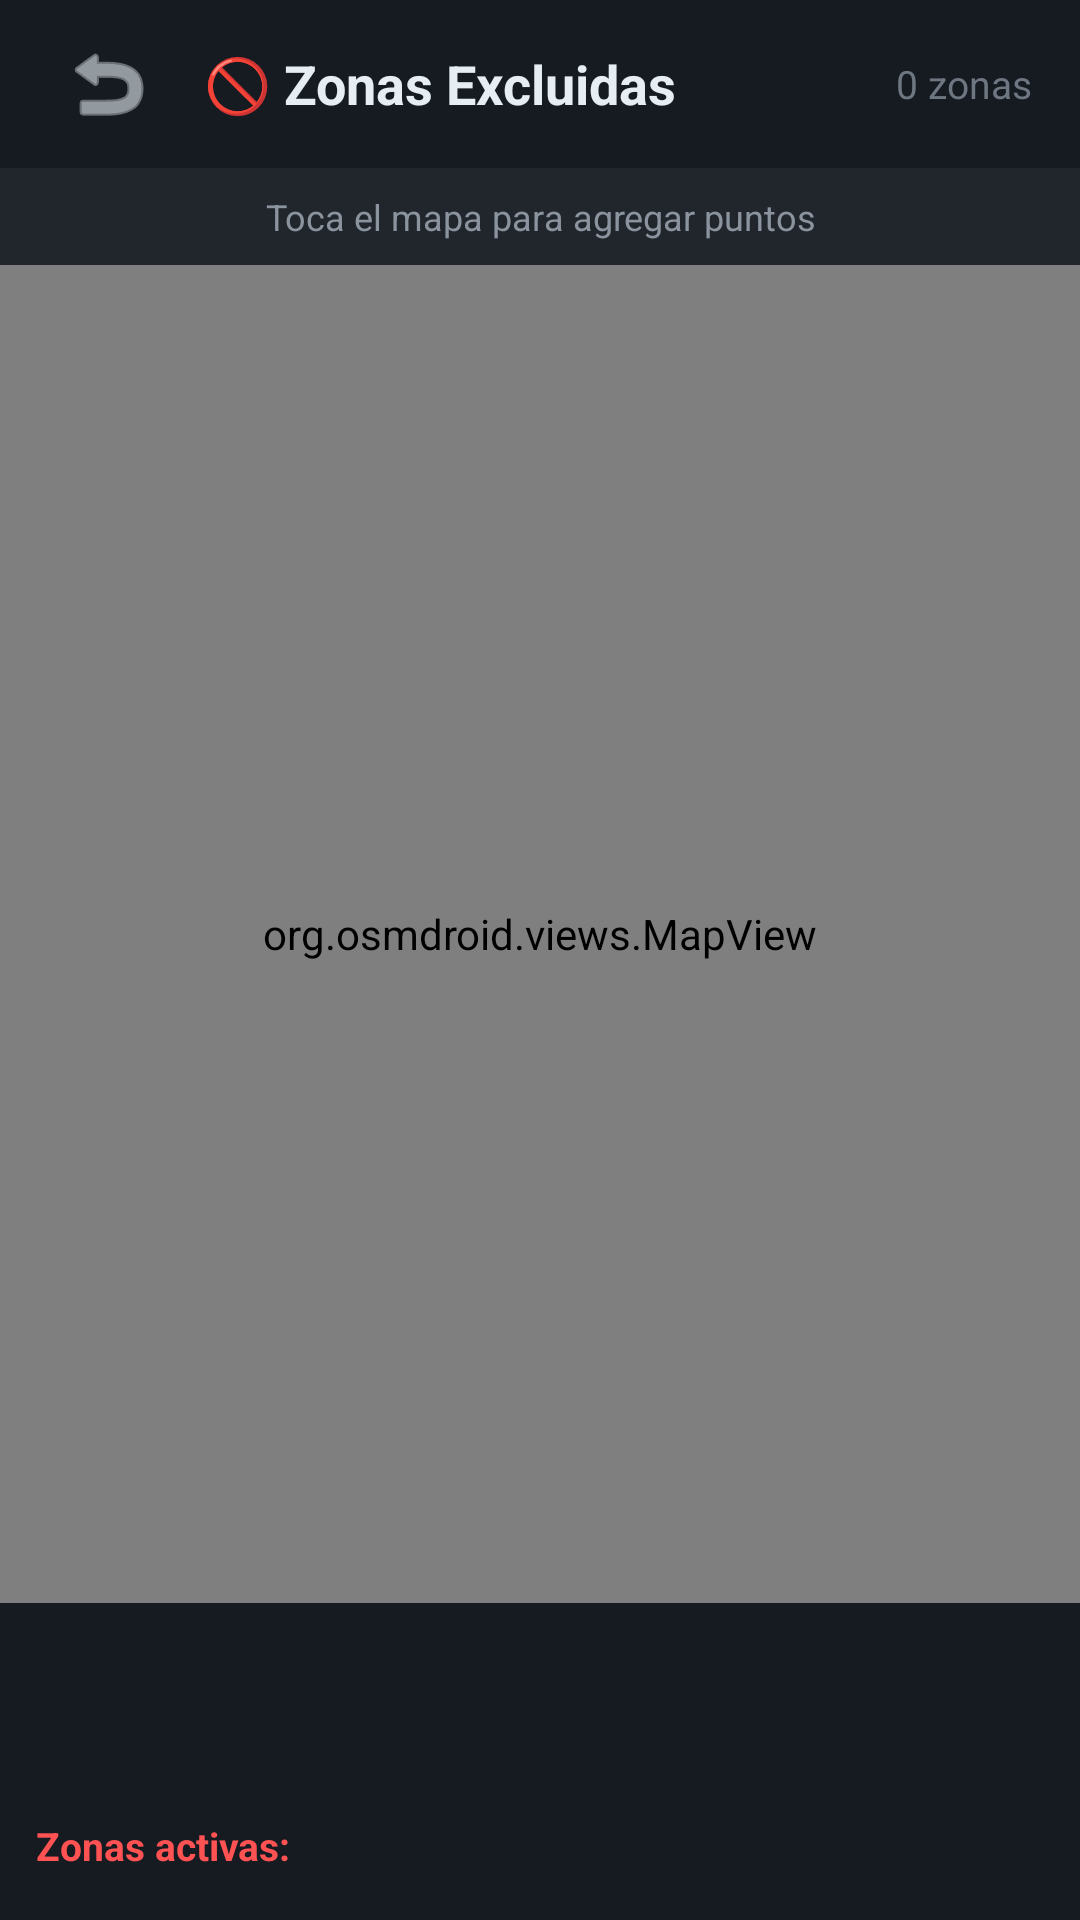

Named icons in this screenshot (1080 × 1920) and their centers, [x,y]:
Volver: [109,84]
